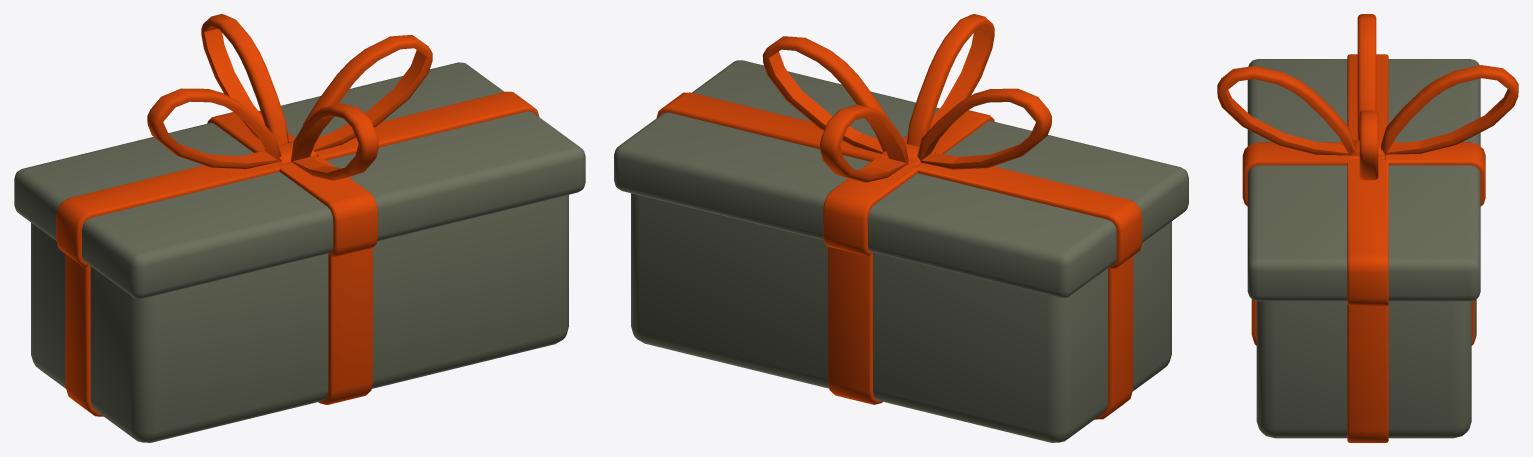
Rendered from Gift Box_5.fbx.
The picture shows the model from 3 angles, left to right: view 1: azimuth 30°, elevation 25°; view 2: azimuth 150°, elevation 25°; view 3: azimuth 270°, elevation 25°; orthographic projection. The views are drawn at different scales.
Parts seen in each view (by area): view 1: Gift Box_5; view 2: Gift Box_5; view 3: Gift Box_5.
Boxes of the visible parts, left/top/right/bottom form: Gift Box_5: left=14, top=14, right=585, bottom=442; Gift Box_5: left=614, top=14, right=1188, bottom=442; Gift Box_5: left=1217, top=14, right=1518, bottom=442.
Size of the model in its own units: 0.5982 by 0.3673 by 0.3616.
